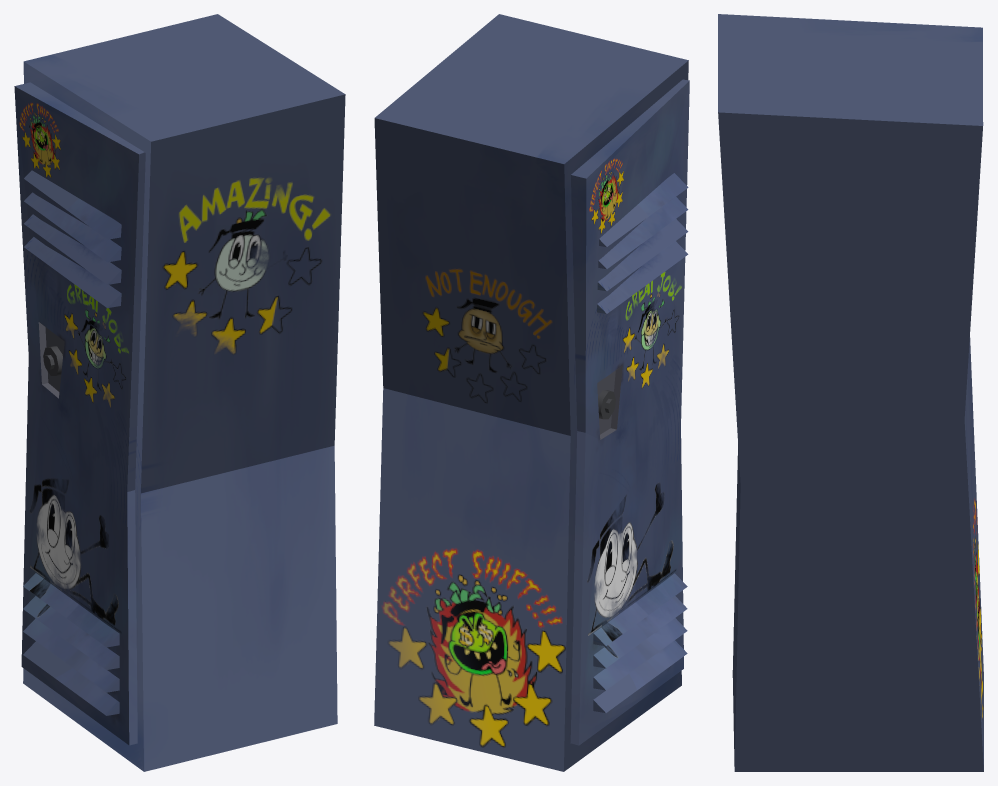
Rendered from Locker tippy.glb.
The picture shows the model from 3 angles, left to right: view 1: azimuth 30°, elevation 25°; view 2: azimuth 150°, elevation 25°; view 3: azimuth 270°, elevation 25°; orthographic projection. The views are drawn at different scales.
Parts seen in each view (by area): view 1: Cube.001; view 2: Cube.001; view 3: Cube.001.
Boxes of the visible parts, x1,y1,x2,y2 form: Cube.001: (14,14,345,771); Cube.001: (374,14,689,771); Cube.001: (718,14,983,771).
Bounding box in the file's own units: 1.6 × 4.51 × 1.65.
1 material, 1 textured.
